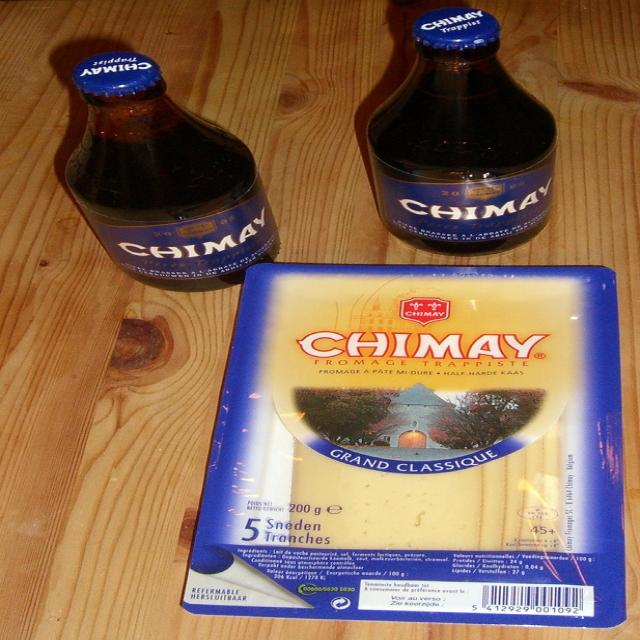chimay: (91, 194, 280, 280), (379, 167, 556, 243), (290, 329, 560, 364), (419, 10, 492, 34), (78, 62, 157, 80)
